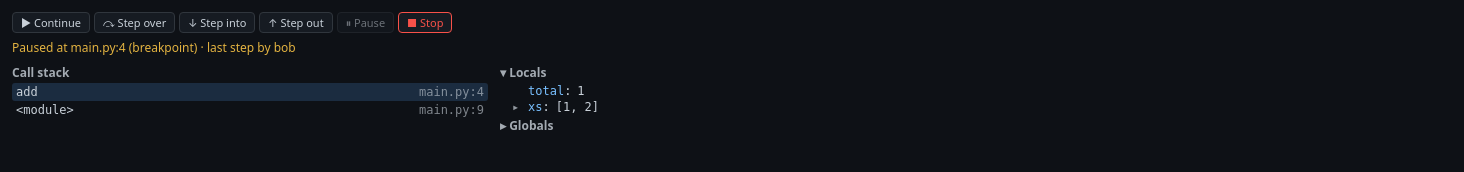
Test: DebugPanel › collapses and reopens loaded Locals without requesting adapter variables
Step 1. Click the button "▾ Locals" → (528, 72), box [500,62,1452,83]
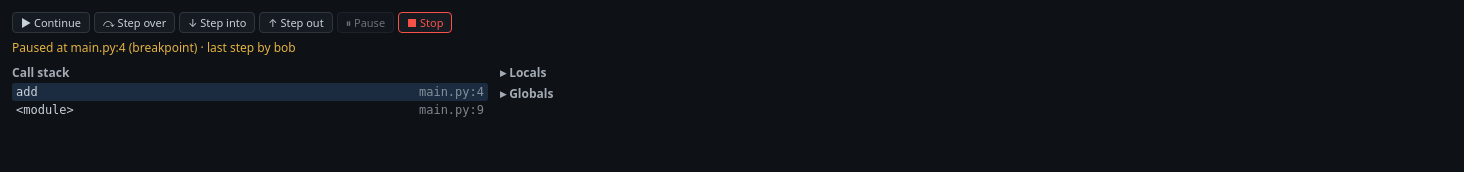
Expected: the button "▸ Locals" is collapsed
Expected: the text "total" is gone
Step 2. Click the button "▸ Locals" → (528, 72), box [500,62,1452,83]
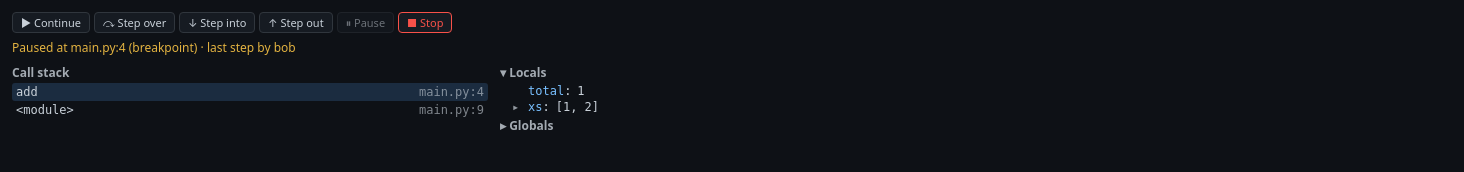
Expected: the button "▾ Locals" is expanded, [500,62,1452,83]
Expected: the text "total" is shown, [528,84,571,98]
